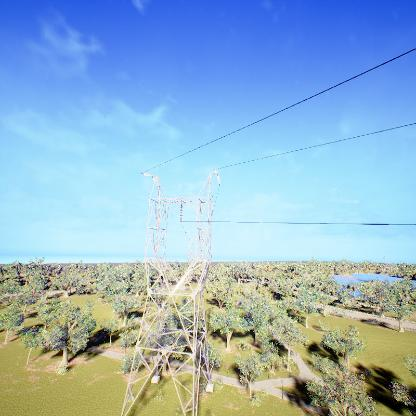tower: (116, 168, 223, 416)
